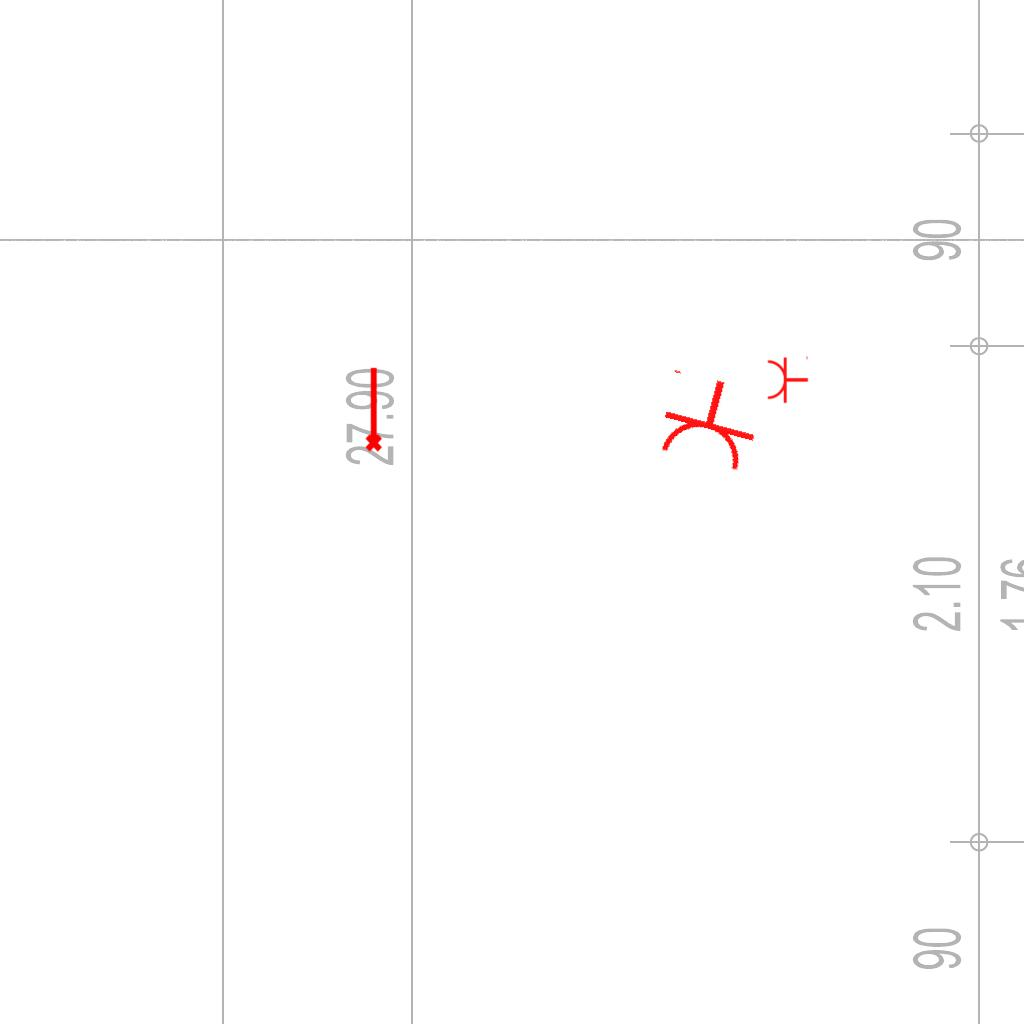ASR_Ansaugoeffnung: (361, 365, 384, 453)
Schukosteckdose_einfach: (648, 366, 769, 476), (766, 354, 809, 404)
